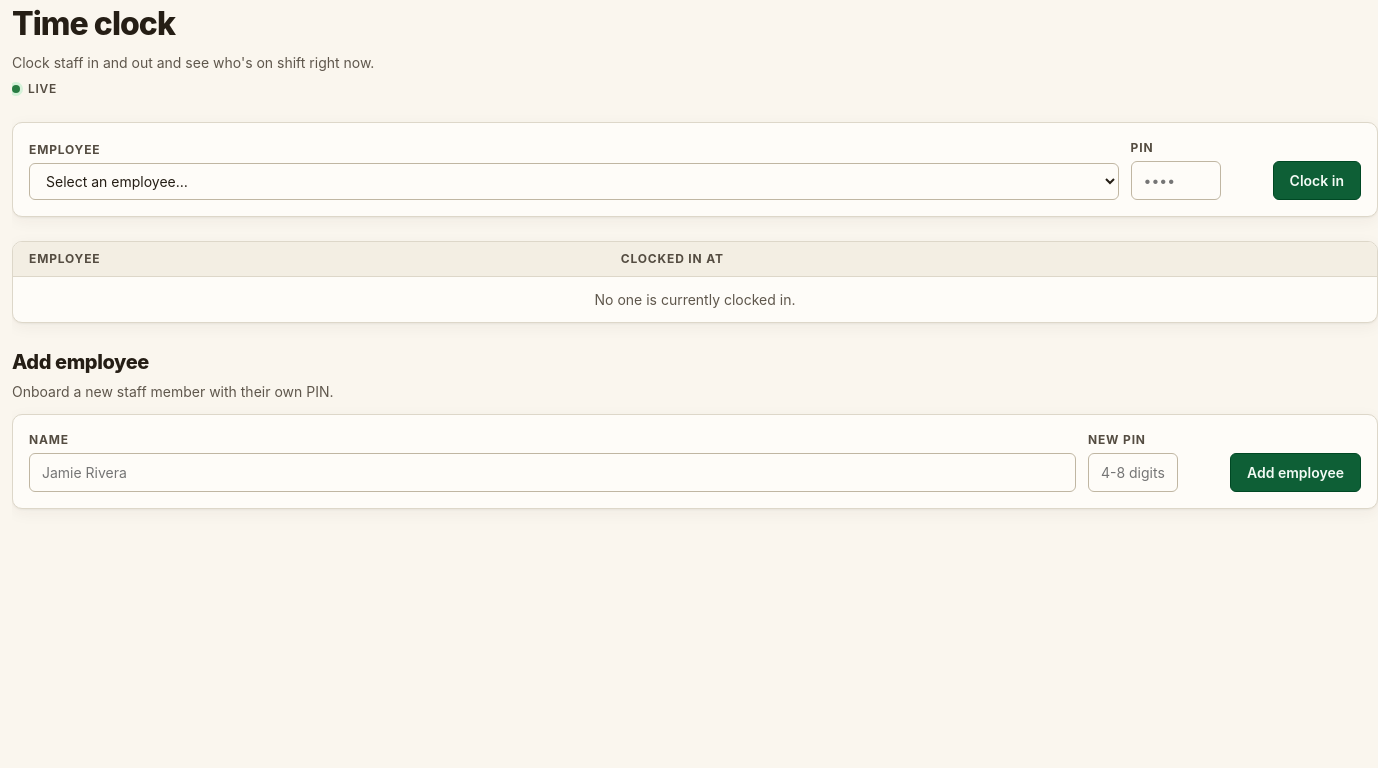
Test: TimeclockPanel › clocks an employee in with a PIN
Step 1. Select "Jamie Rivera" in the dropdown labelled "Employee" → (574, 182), box [29,163,1119,200]
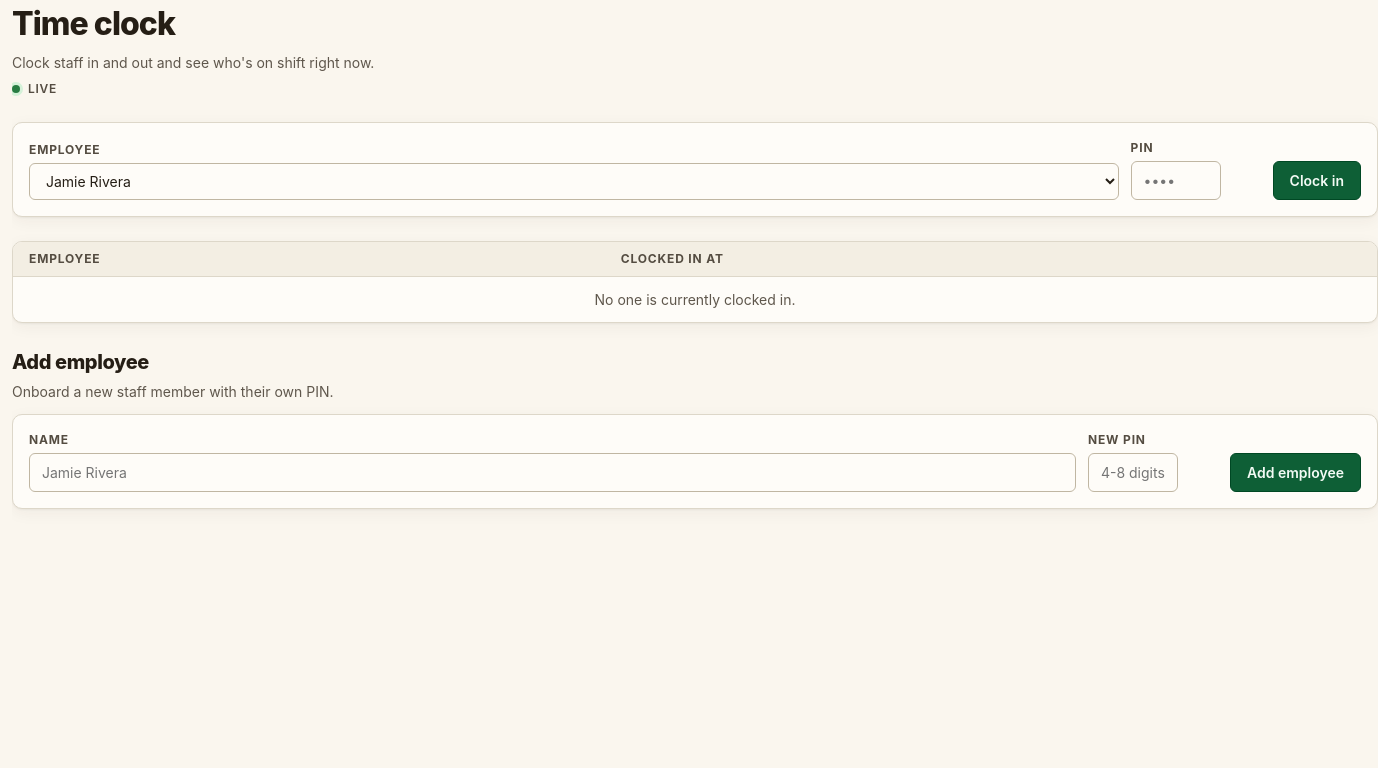
Step 2. Type "4321" into the password field labelled "PIN" → (1176, 180), box [1131,161,1221,200]
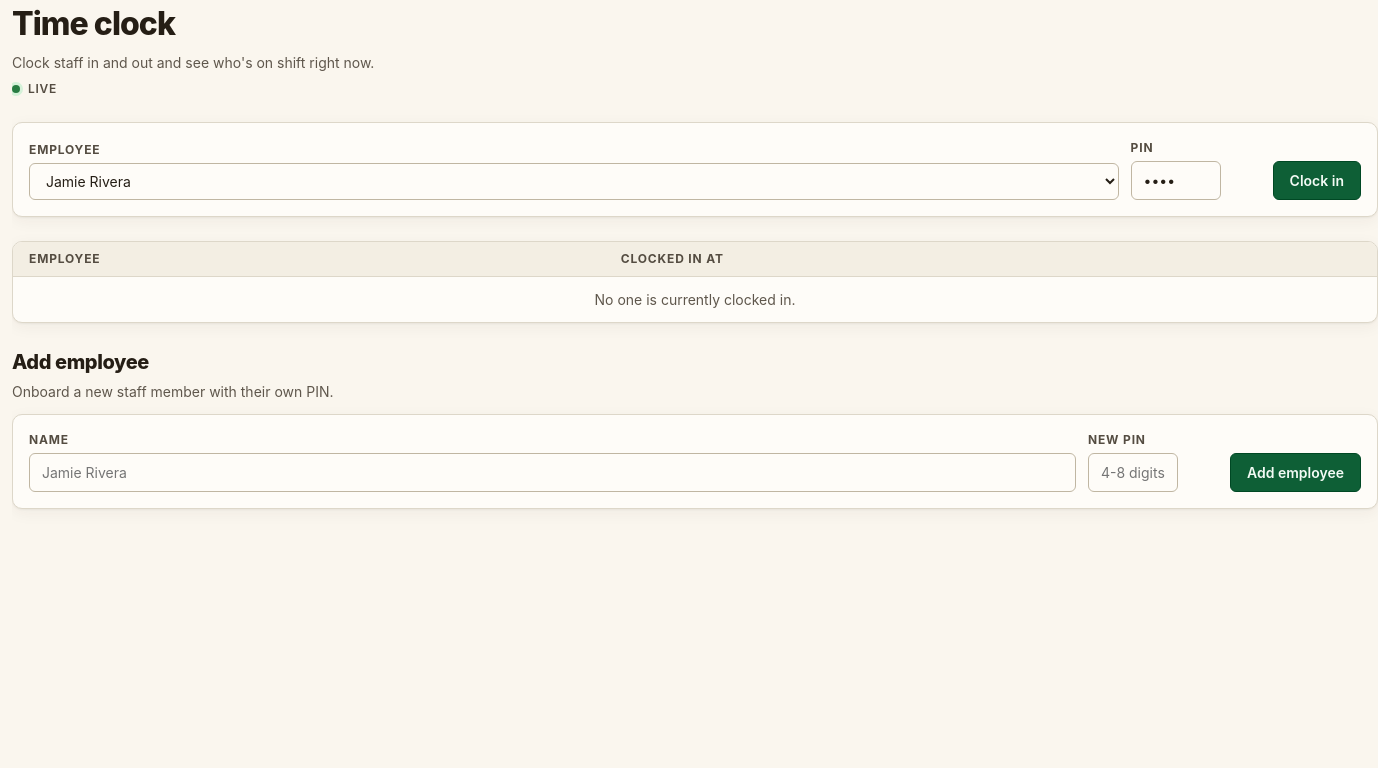
Step 3. Click the button "Clock in" → (1317, 180), box [1273,161,1361,200]
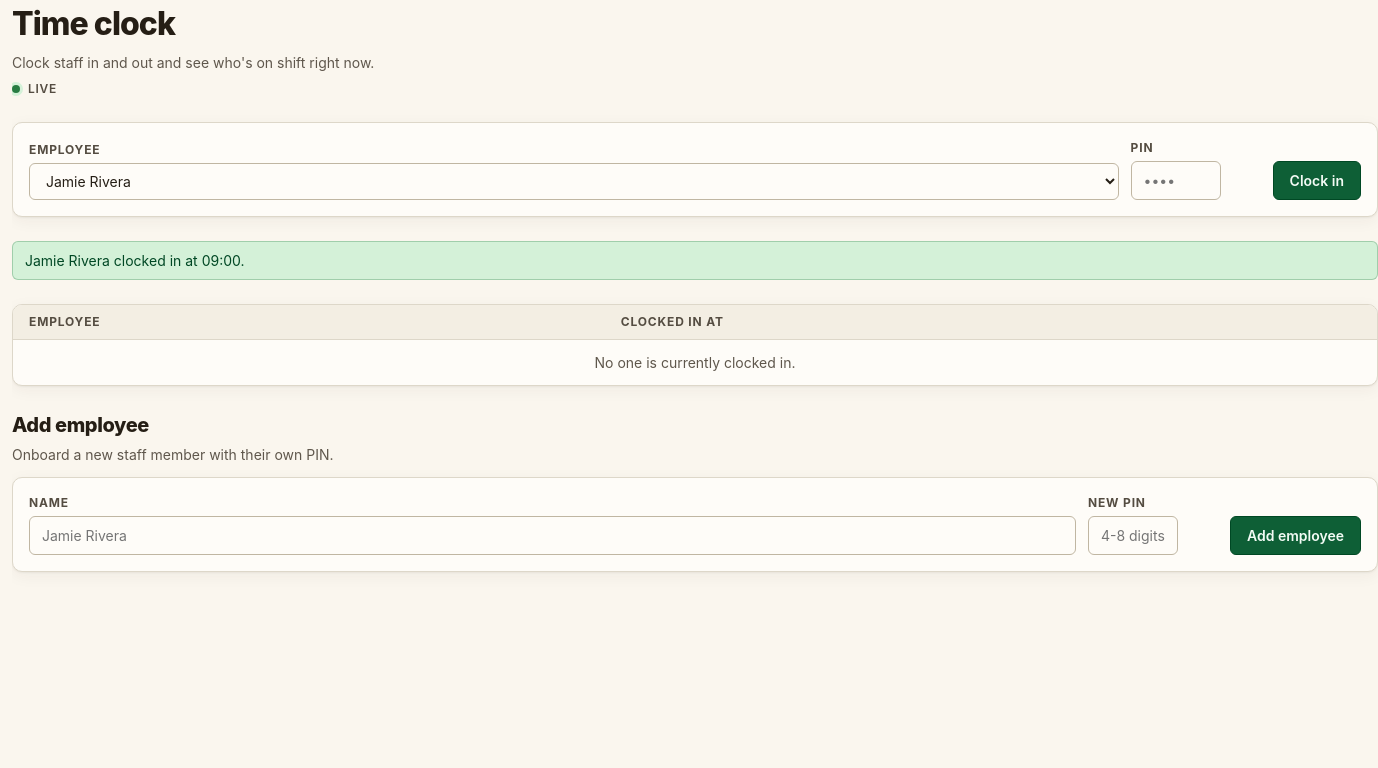
Expected: the text "Jamie Rivera clocked in at 09:00." is shown, [12,241,1377,280]
